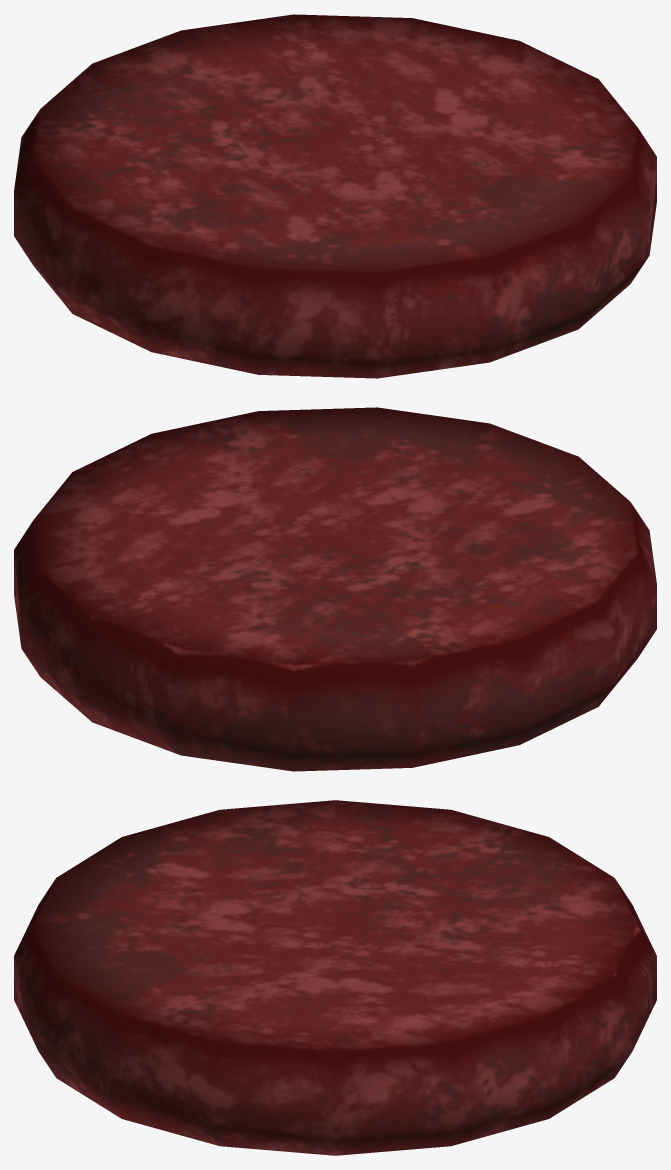
The model's file is meat_Burger.fbx.
The picture shows the model from 3 angles, top to bottom: view 1: azimuth 30°, elevation 25°; view 2: azimuth 150°, elevation 25°; view 3: azimuth 270°, elevation 25°; orthographic projection. The views are drawn at different scales.
Visible parts, largest first — view 1: Meat; view 2: Meat; view 3: Meat.
Part boxes in pixels (x1,y1,x2,y2): Meat: (14, 14, 656, 378); Meat: (14, 407, 656, 771); Meat: (14, 800, 656, 1155).
Bounding box in the file's own units: 16.5 × 2.99 × 16.75.
